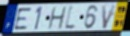1: (34, 6, 43, 31)
6: (84, 4, 99, 31)
E: (13, 6, 33, 31)
H: (47, 6, 68, 30)
L: (63, 4, 78, 32)
V: (101, 4, 117, 31)
